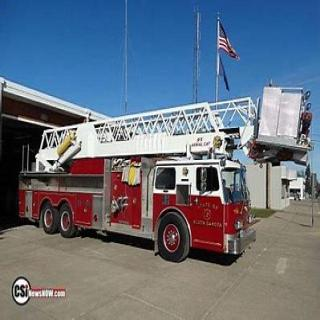Fire_truck: (17, 93, 320, 306)
